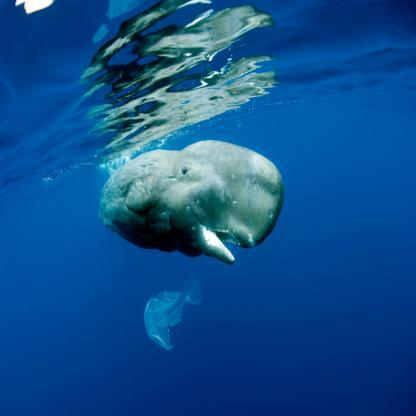Rác: (140, 270, 202, 361)
